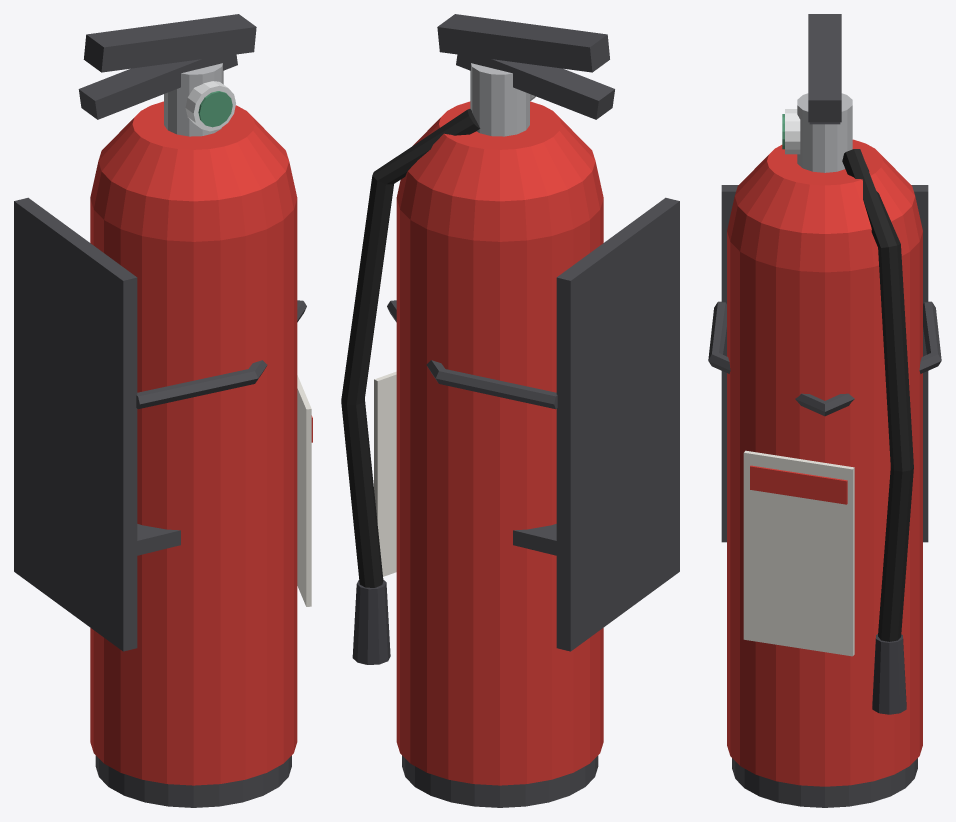
Rendered from SM_Prop_FireExtinguisher.fbx.
The picture shows the model from 3 angles, left to right: view 1: azimuth 30°, elevation 25°; view 2: azimuth 150°, elevation 25°; view 3: azimuth 270°, elevation 25°; orthographic projection. The views are drawn at different scales.
Parts seen in each view (by area): view 1: SM_Prop_FireExtinguisher; view 2: SM_Prop_FireExtinguisher; view 3: SM_Prop_FireExtinguisher.
Boxes of the visible parts, x1,y1,x2,y2 form: SM_Prop_FireExtinguisher: (14,14,312,807); SM_Prop_FireExtinguisher: (341,14,679,807); SM_Prop_FireExtinguisher: (708,14,941,807).
Size of the model in its own units: 0.181 by 0.205 by 0.6067.
